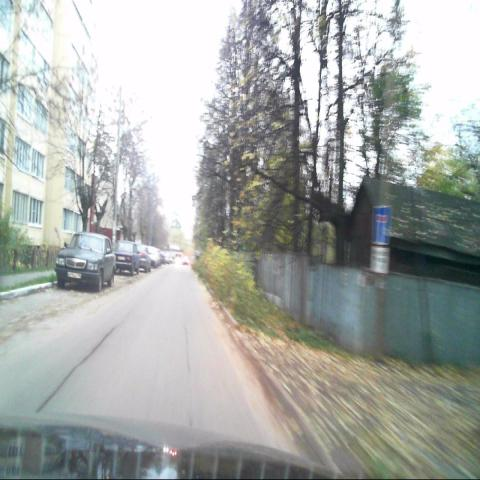6_8_1: (378, 204, 390, 244)
